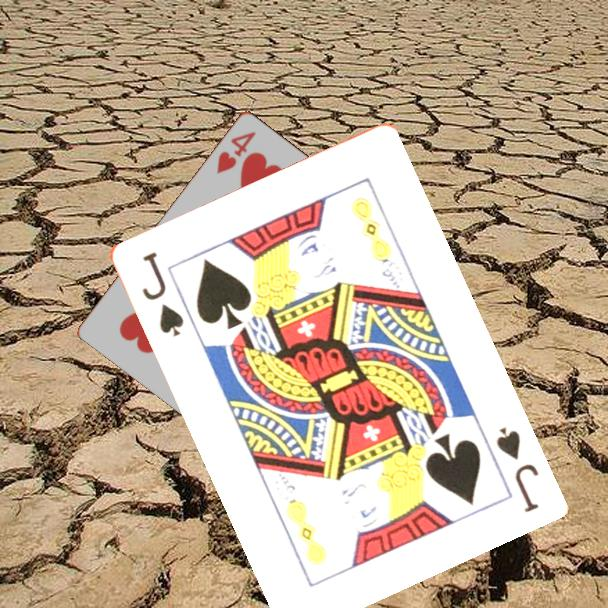h04: (213, 127, 259, 176)
s11: (492, 423, 541, 515), (138, 247, 186, 339)
